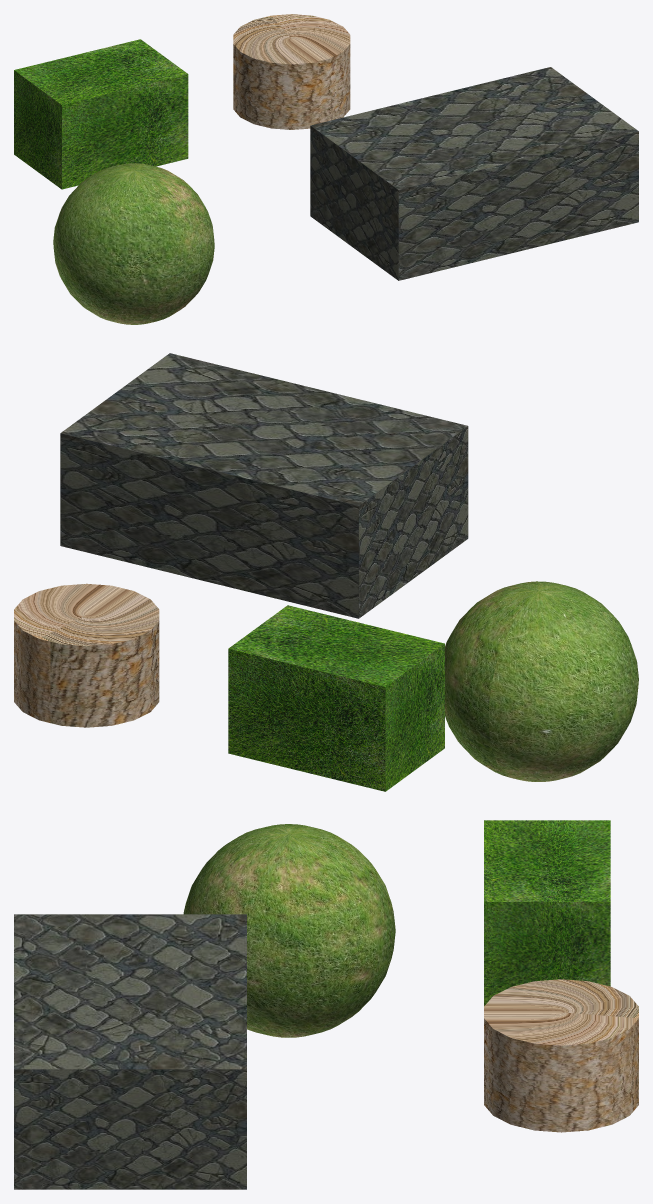
File: geometries.FBX
The picture shows the model from 3 angles, top to bottom: view 1: azimuth 30°, elevation 25°; view 2: azimuth 150°, elevation 25°; view 3: azimuth 270°, elevation 25°; orthographic projection. The views are drawn at different scales.
Parts seen in each view (by area): view 1: Box002, Sphere001, Box001, Cylinder001; view 2: Box002, Box001, Sphere001, Cylinder001; view 3: Box002, Sphere001, Cylinder001, Box001.
Part boxes in pixels (left/top/right/bottom): Box002: left=310, top=67, right=638, bottom=280; Sphere001: left=53, top=163, right=214, bottom=324; Box001: left=14, top=39, right=188, bottom=189; Cylinder001: left=233, top=14, right=350, bottom=129; Box002: left=60, top=353, right=468, bottom=618; Box001: left=228, top=605, right=444, bottom=791; Sphere001: left=445, top=581, right=638, bottom=781; Cylinder001: left=14, top=583, right=159, bottom=727; Box002: left=14, top=914, right=246, bottom=1189; Sphere001: left=183, top=824, right=395, bottom=1037; Cylinder001: left=484, top=979, right=638, bottom=1132; Box001: left=484, top=820, right=610, bottom=1006.
Size of the model in its own units: 176 by 153 by 58.62.
4 materials, 4 textured.
